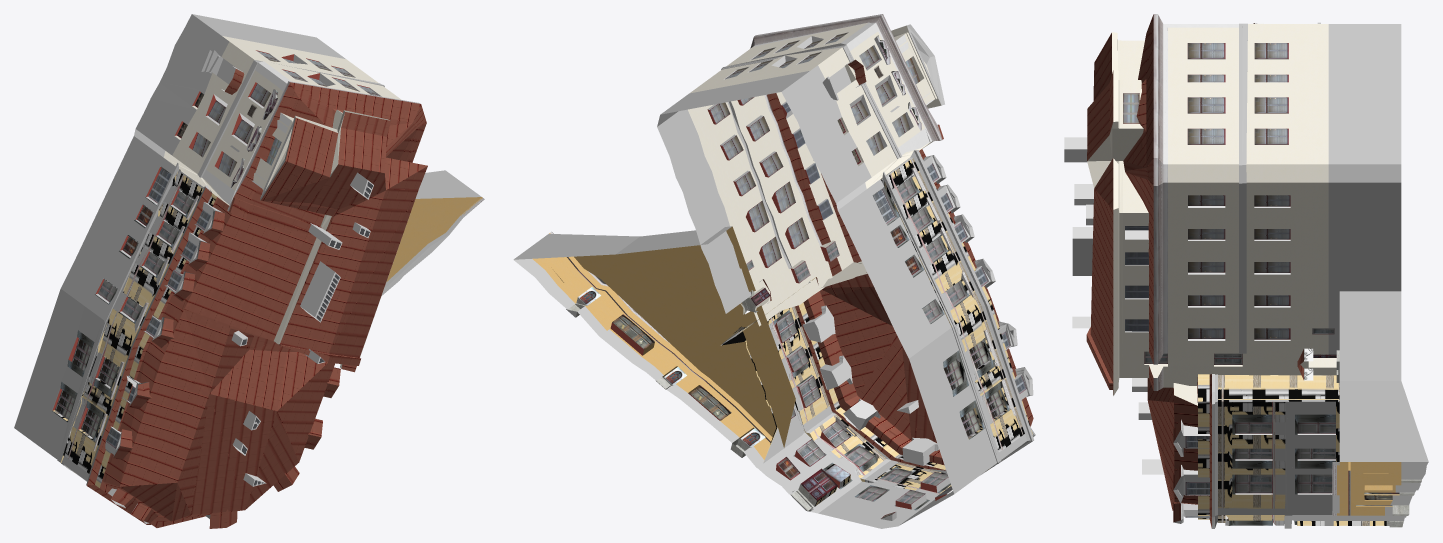
File: Sulevimagi_2-origo.obj
3 renders of one model, left to right at view 1: azimuth 30°, elevation 25°; view 2: azimuth 150°, elevation 25°; view 3: azimuth 270°, elevation 25°, orthographic. The views are drawn at different scales.
Parts seen in each view (by area): view 1: sulevimagi_2, xxx; view 2: sulevimagi_2, xxx; view 3: sulevimagi_2, xxx.
Boxes of the visible parts, box(x1,y1,x2,y2) form: sulevimagi_2: box(14, 14, 484, 528); xxx: box(415, 170, 481, 198); sulevimagi_2: box(513, 14, 1035, 528); xxx: box(514, 226, 731, 259); sulevimagi_2: box(1064, 14, 1428, 528); xxx: box(1339, 291, 1428, 461).
Size of the model in its own units: 34.81 by 32.5 by 20.07.
